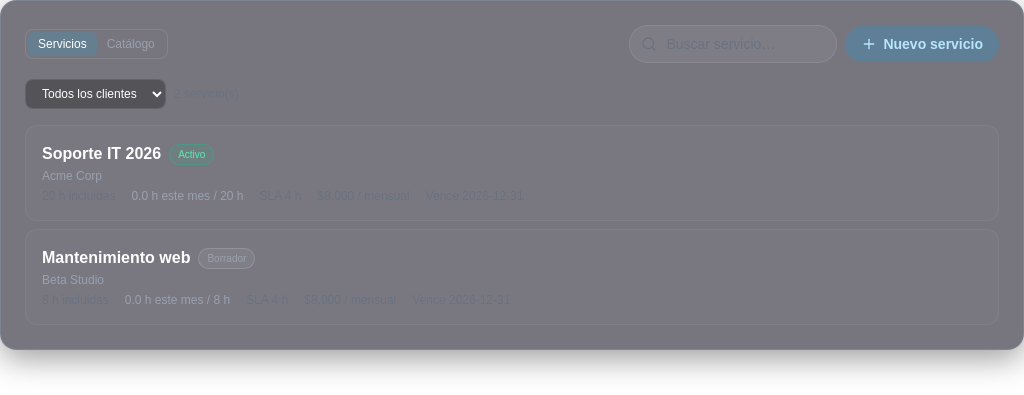
Test: ContractsSection › switches to the service catalog view
This screenshot has width=1024, height=395.
Click the button "Catálogo". click: (131, 44)
box: [97,32,165,56]
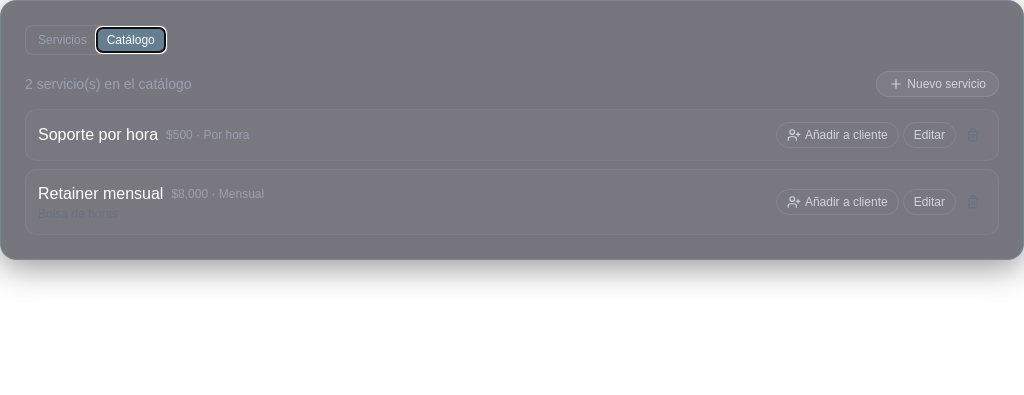
Expected: the text "Soporte por hora" is shown, [38,123,158,147]
Expected: the text "Retainer mensual" is shown, [38,182,163,206]
